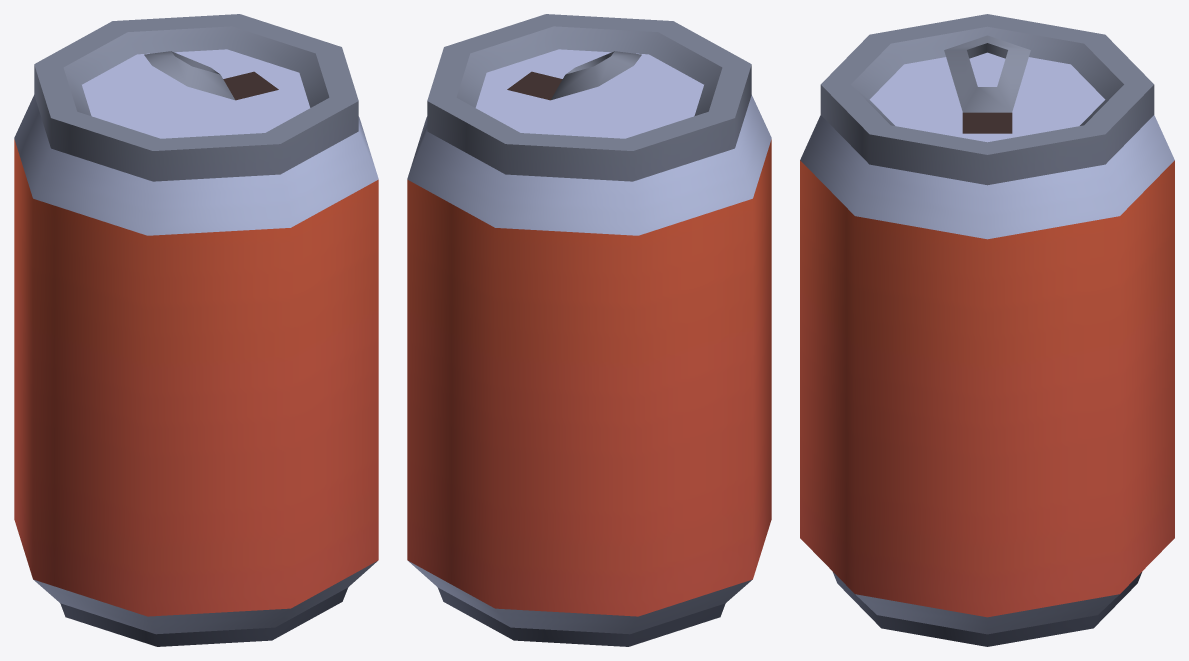
File: kenney-food-soda-can.glb
The picture shows the model from 3 angles, left to right: view 1: azimuth 30°, elevation 25°; view 2: azimuth 150°, elevation 25°; view 3: azimuth 270°, elevation 25°; orthographic projection.
Parts seen in each view (by area): view 1: soda-can; view 2: soda-can; view 3: soda-can.
Part boxes in pixels (x1,y1,x2,y2): soda-can: (14, 14, 378, 646); soda-can: (407, 14, 771, 646); soda-can: (800, 14, 1174, 646).
Bounding box in the file's own units: 0.2246 × 0.3506 × 0.2246.
Materials: 1 (1 with a texture image).
